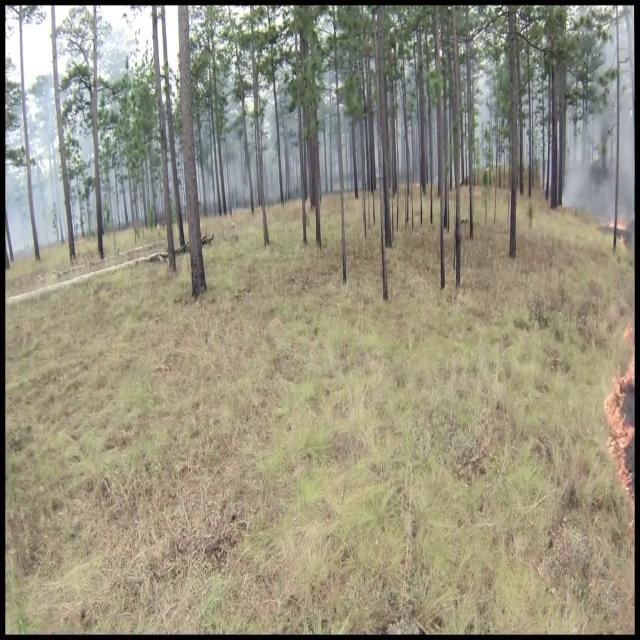Smoke: (554, 84, 636, 238)
